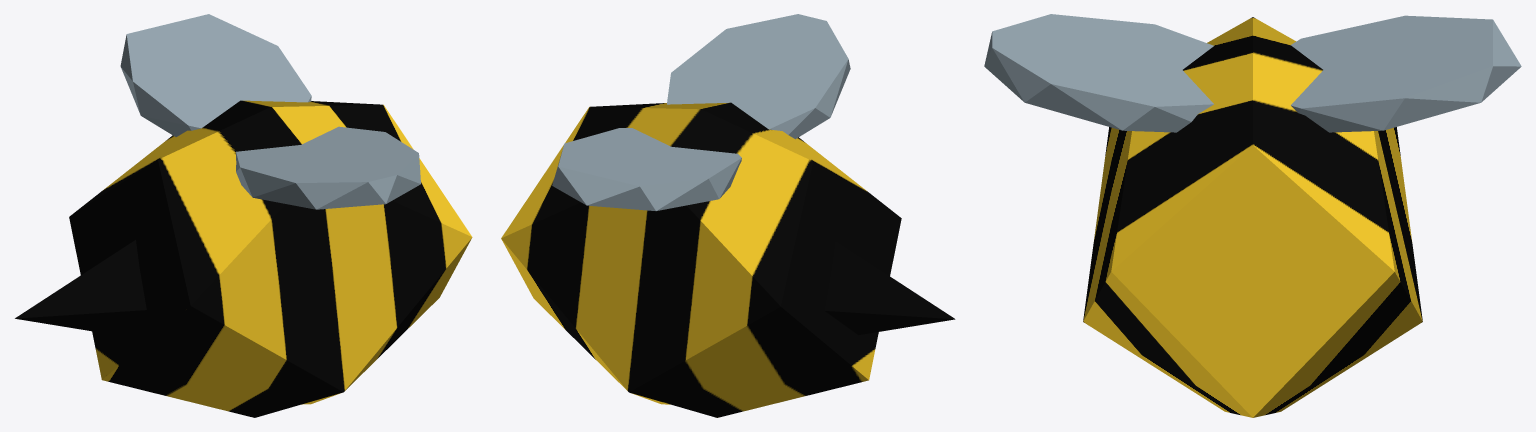
The model's file is bee.glb.
The picture shows the model from 3 angles, left to right: view 1: azimuth 30°, elevation 25°; view 2: azimuth 150°, elevation 25°; view 3: azimuth 270°, elevation 25°; orthographic projection. The views are drawn at different scales.
Visible parts, largest first — view 1: bee; view 2: bee; view 3: bee.
Part boxes in pixels (left/top/right/bottom): bee: left=15, top=14, right=472, bottom=417; bee: left=501, top=14, right=955, bottom=417; bee: left=984, top=14, right=1521, bottom=417.
Bounding box in the file's own units: 2.24 × 1.55 × 2.1.
Materials: 4 (1 with a texture image).
